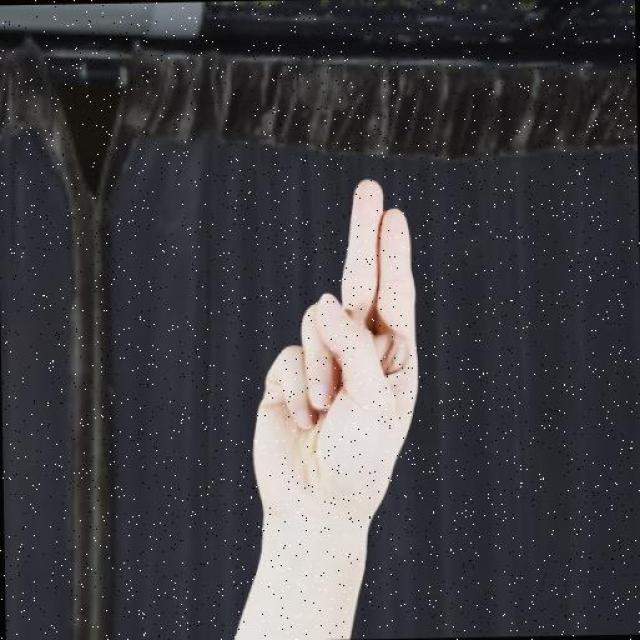U: (241, 168, 420, 547)
